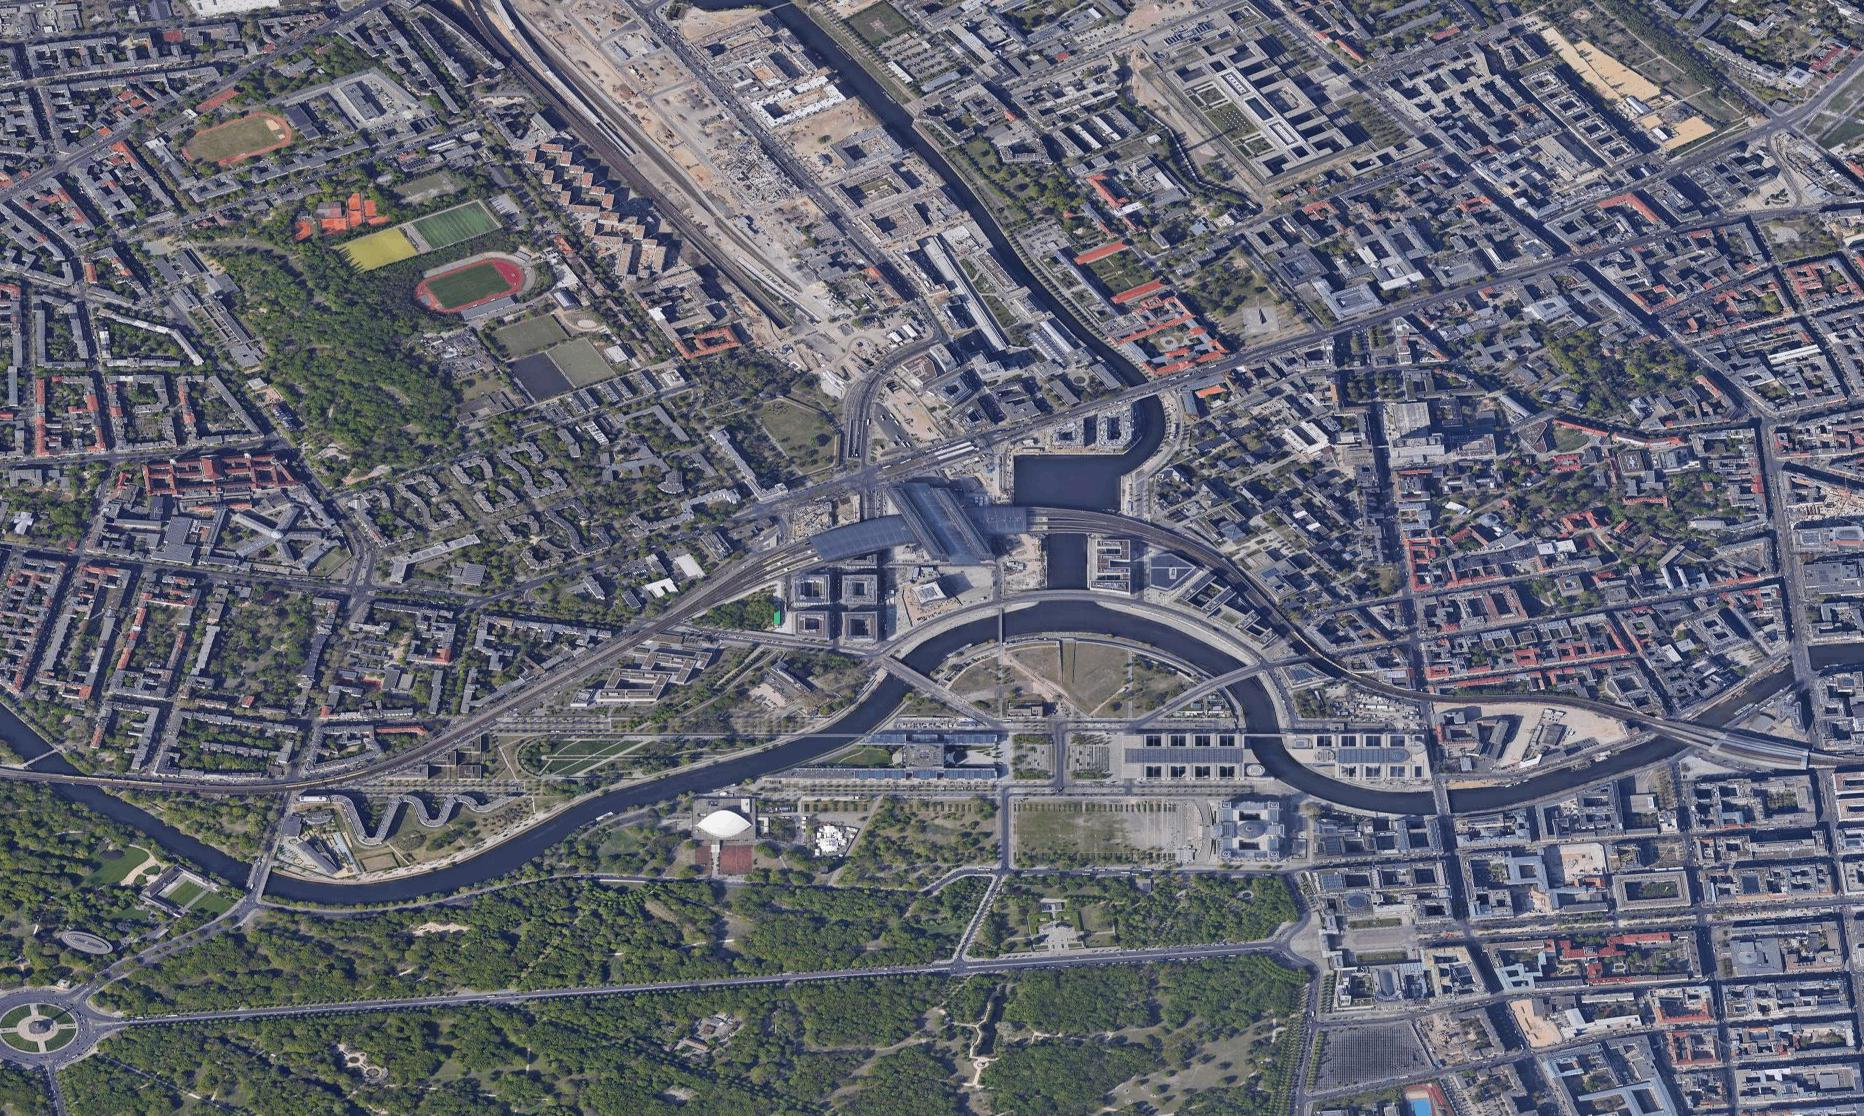bridge: (39, 764, 90, 794), (1654, 713, 1702, 745), (884, 656, 934, 684), (1240, 717, 1290, 745), (1210, 662, 1259, 690), (236, 853, 268, 895), (1426, 781, 1460, 818)
industrial: (834, 201, 1143, 420)
motorway: (771, 472, 998, 632)
